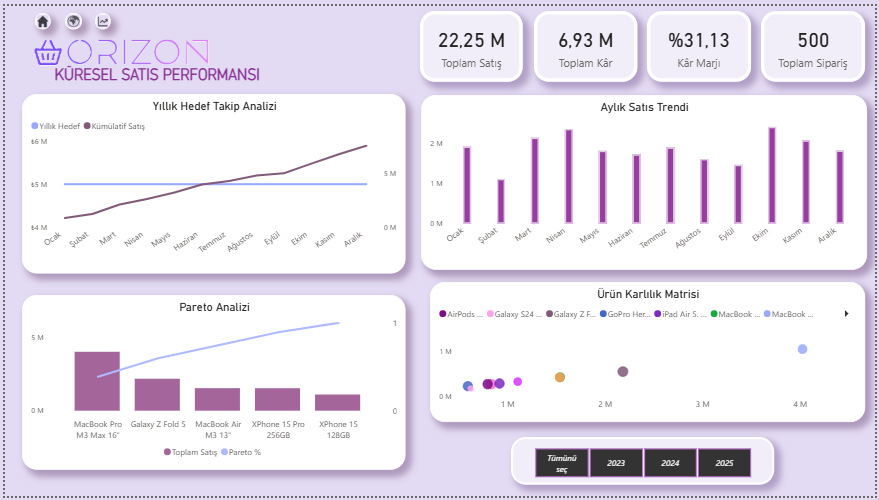

This screenshot's page, from the dashboard's own definition file:
{"tool":"powerbi","page":{"name":"AnaSayfa","canvas":[1280,720],"ordinal":0},"visuals":[{"type":"slicer","fields":{"Values":["Takvim.Yıl"]},"box":[744.3,634.3,387.1,70],"z":0},{"type":"image","box":[25.5,21.8,293.6,89.1],"z":1000},{"type":"textbox","box":[67.3,81.8,361.8,44.5],"z":2000},{"type":"columnChart","title":"Aylık Satıs Trendi","fields":{"Category":["Takvim.Ay"],"Y":["Tablo.Toplam Satış"]},"box":[611.1,130.2,655.6,257.1],"z":3000},{"type":"image","box":[87.8,10.4,24.8,24.3],"z":7000},{"type":"image","box":[44.3,10.4,23,24.3],"z":8000},{"type":"image","box":[133,10.4,23,24.3],"z":9000},{"type":"card","fields":{"Values":["Tablo.Toplam Satış"]},"box":[610.8,6.8,151.4,104.1],"z":10000},{"type":"card","fields":{"Values":["Tablo.Toplam Kâr"]},"box":[778.4,6.9,151.7,104.3],"z":11000},{"type":"card","fields":{"Values":["Tablo.Kâr Marjı"]},"box":[944,6.9,152.6,104.3],"z":12000},{"type":"card","fields":{"Values":["Tablo.Toplam Sipariş"]},"box":[1112.2,6.8,152.7,104.1],"z":13000},{"type":"lineChart","title":"Yıllık Hedef Takip Analizi","fields":{"Y":["Hesaplamalar.Yıllık Hedef"],"Category":["Takvim.Ay"],"Y2":["Hesaplamalar.Kümülatif Satış"]},"box":[25.7,130,564.3,264.3],"z":14000},{"type":"lineClusteredColumnComboChart","title":"Pareto Analizi","fields":{"Category":["public urunler.Ürün Adı"],"Y":["Hesaplamalar.Toplam Satış"],"Y2":["Hesaplamalar.Pareto %"]},"box":[25.7,424.3,564.3,257.1],"z":15000},{"type":"scatterChart","title":"Ürün Karlılık Matrisi","fields":{"X":["Hesaplamalar.Toplam Satış"],"Y":["Hesaplamalar.Toplam Kâr"],"Size":["public siparis_detay.siparis_id"],"Series":["public urunler.Ürün Adı"]},"box":[624.3,405.7,640,205.7],"z":16000}]}

Visuals, with their boxes in screenshot pixels (x1, y1, x2, y2), scaled from the page's 1280x720 canvas onto the 879x500 screenshot:
slicer - Takvim.Yıl: (left=511, top=440, right=777, bottom=489)
image: (left=18, top=15, right=219, bottom=77)
textbox: (left=46, top=57, right=295, bottom=88)
"Aylık Satıs Trendi" columnChart: (left=420, top=90, right=870, bottom=269)
image: (left=60, top=7, right=77, bottom=24)
image: (left=30, top=7, right=46, bottom=24)
image: (left=91, top=7, right=107, bottom=24)
card - Tablo.Toplam Satış: (left=419, top=5, right=523, bottom=77)
card - Tablo.Toplam Kâr: (left=535, top=5, right=639, bottom=77)
card - Tablo.Kâr Marjı: (left=648, top=5, right=753, bottom=77)
card - Tablo.Toplam Sipariş: (left=764, top=5, right=869, bottom=77)
"Yıllık Hedef Takip Analizi" lineChart: (left=18, top=90, right=405, bottom=274)
"Pareto Analizi" lineClusteredColumnComboChart: (left=18, top=295, right=405, bottom=473)
"Ürün Karlılık Matrisi" scatterChart: (left=429, top=282, right=868, bottom=425)
